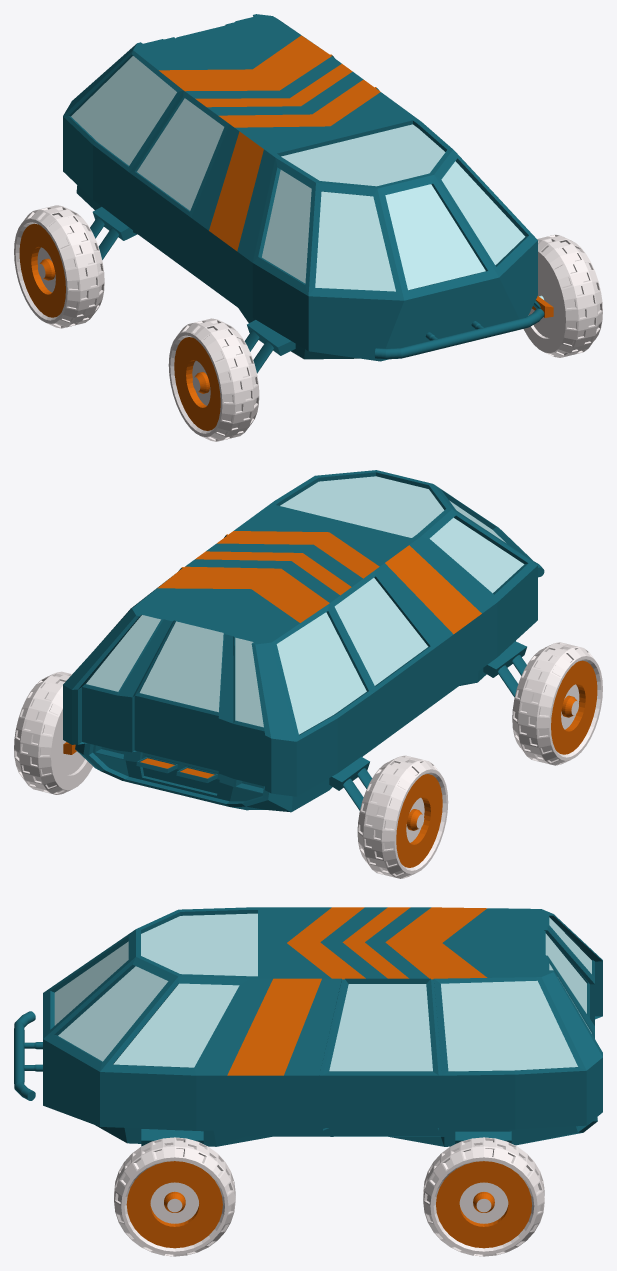
The model's file is Vehicle.fbx.
The picture shows the model from 3 angles, top to bottom: view 1: azimuth 30°, elevation 25°; view 2: azimuth 150°, elevation 25°; view 3: azimuth 270°, elevation 25°; orthographic projection.
Parts seen in each view (by area): view 1: Cube.010; view 2: Cube.010; view 3: Cube.010.
Part boxes in pixels (<box>): Cube.010: <box>14,14,602,441</box>; Cube.010: <box>14,470,602,878</box>; Cube.010: <box>14,907,602,1256</box>.
Bounding box in the file's own units: 1.95 × 1.11 × 2.62.
